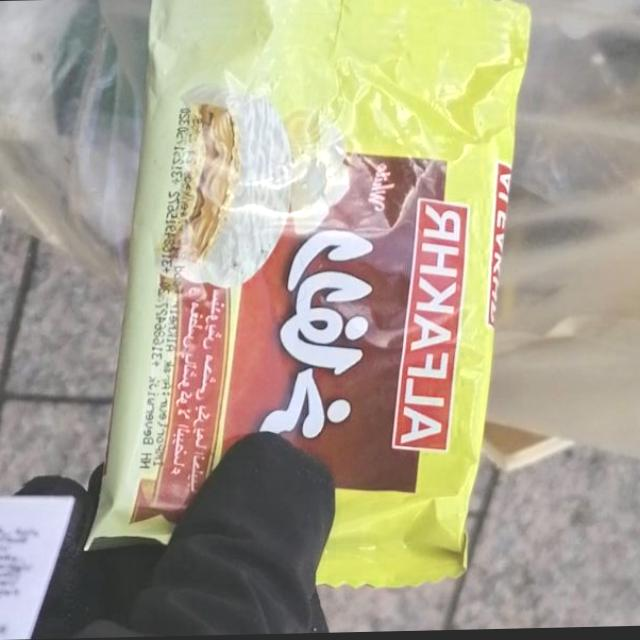Plastic: (81, 0, 536, 599)
